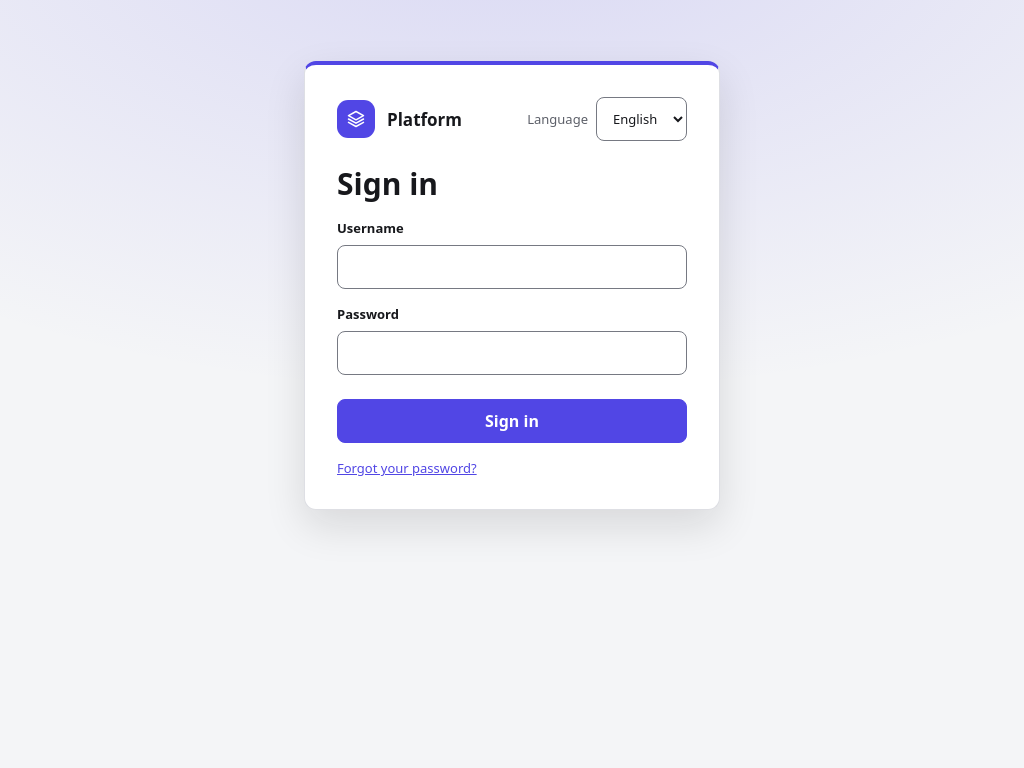
Test case: signing in › a refusal: one generic message, focused, and the password cleared
The image size is (1024, 768).
Type "nobody" into the field labelled "Username".
click(512, 267); type("nobody")  # box [337, 245, 687, 289]
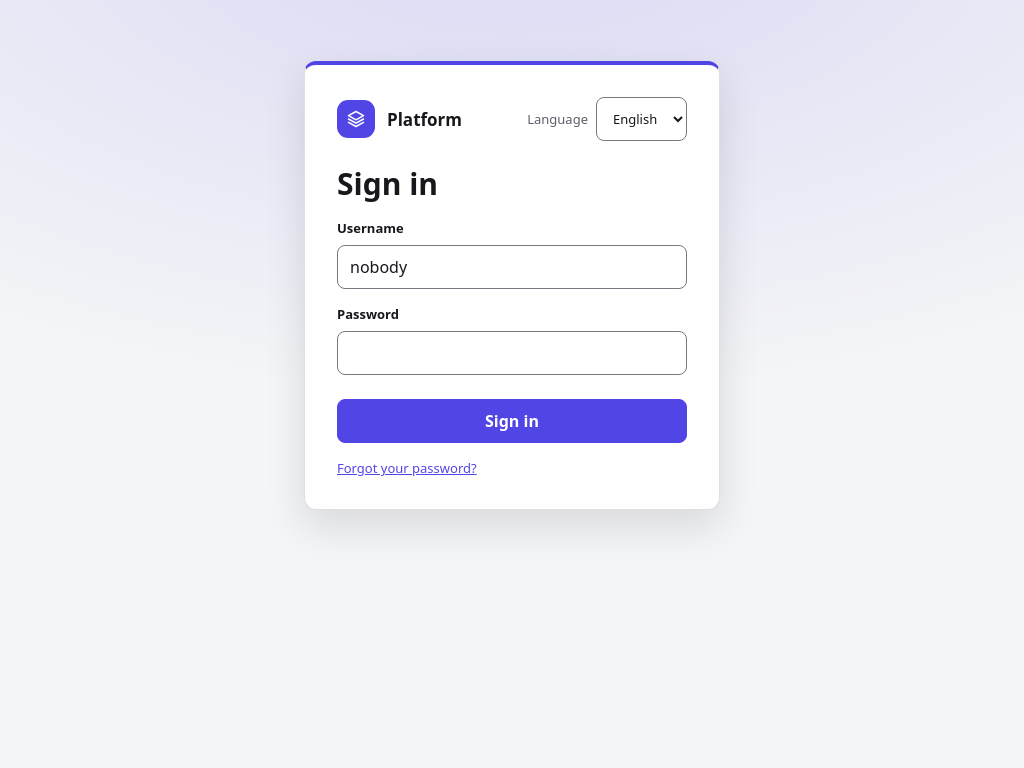
Type "secret" into the password field labelled "Password".
click(512, 353); type("secret")  # box [337, 331, 687, 375]
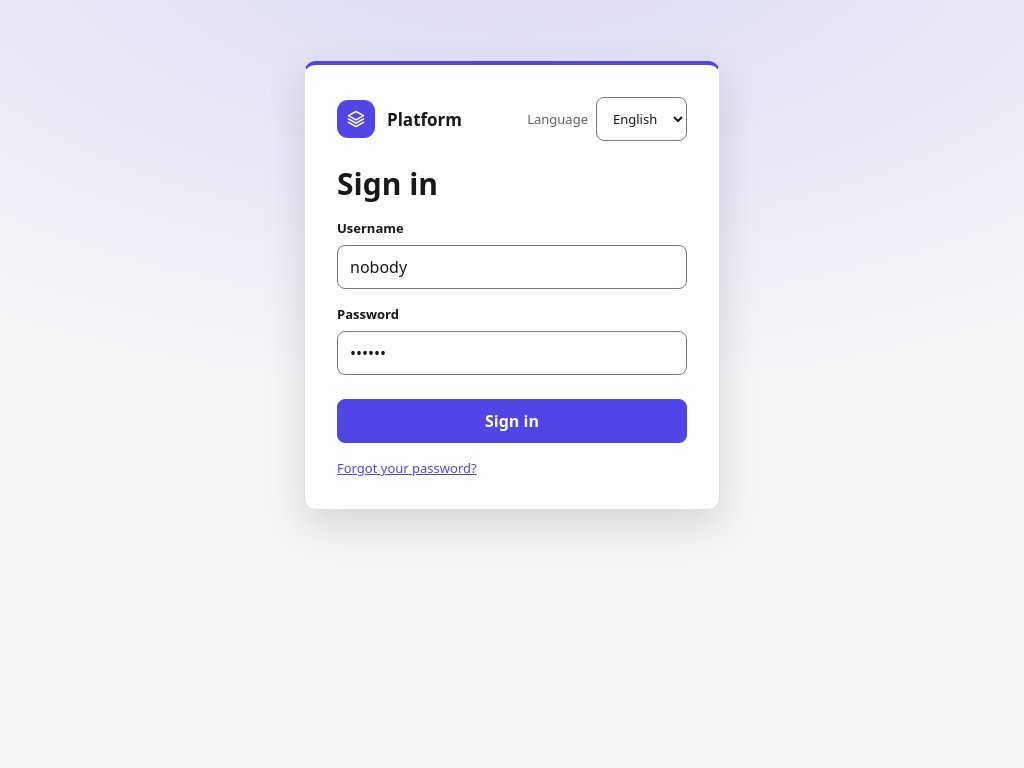
Click the button "Sign in".
click(512, 421)  # box [337, 399, 687, 443]
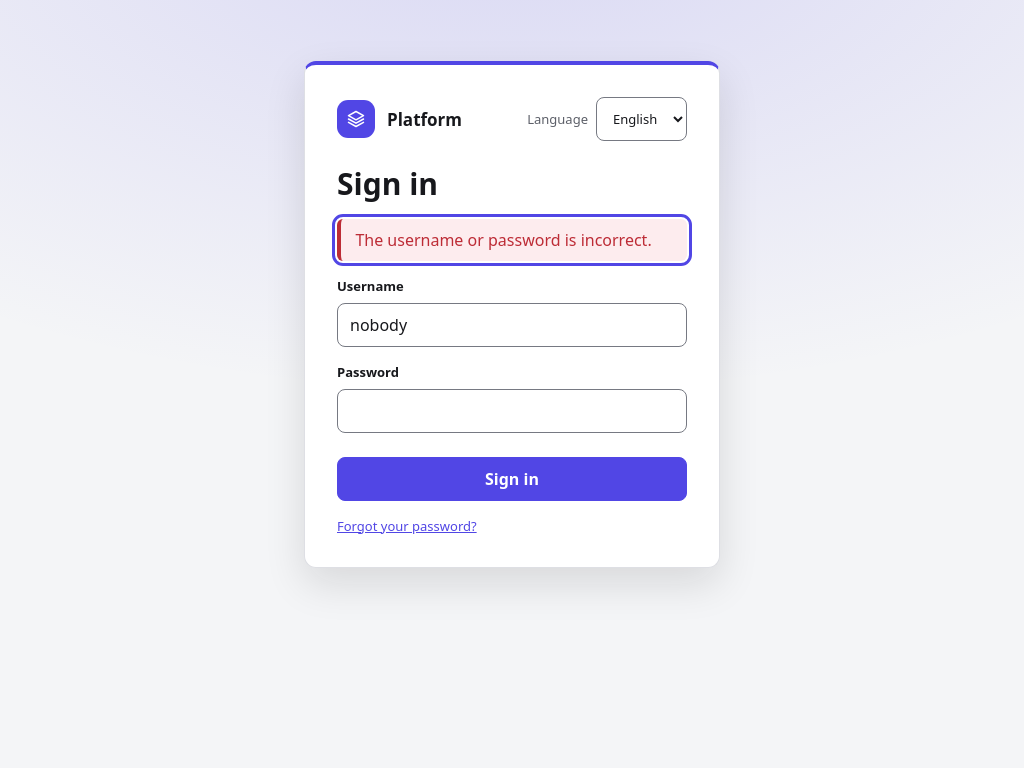
Check: the message reads "The username or password is incorrect.", box [355, 229, 652, 251]
Check: the password field labelled "Password" is empty, box [337, 389, 687, 433]
